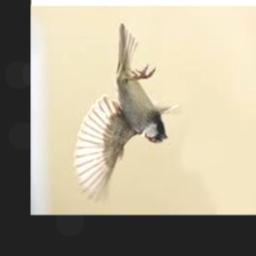Sparrow: (74, 24, 177, 205)
